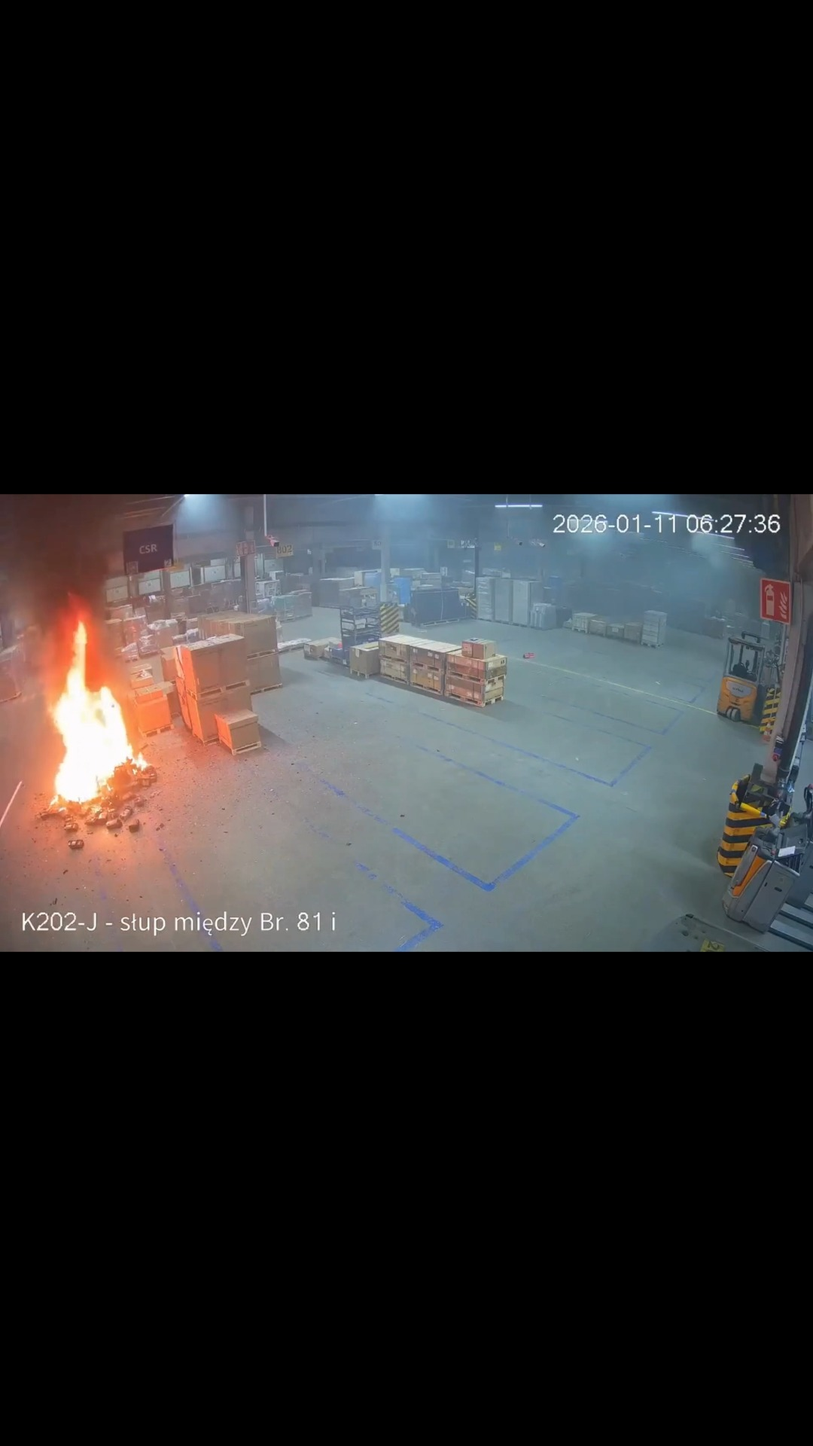fire: (40, 597, 148, 816)
smoke: (1, 495, 163, 694)
